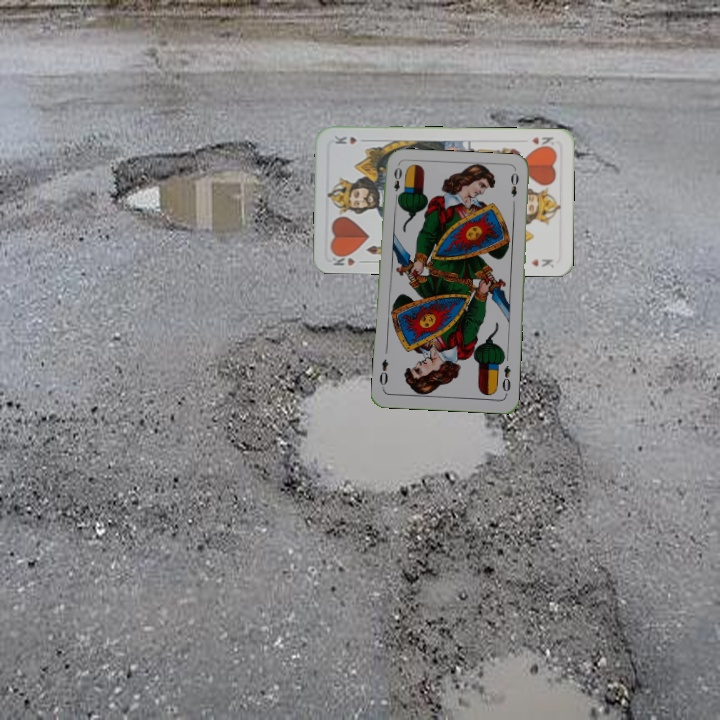EO: (390, 163, 404, 203), (498, 361, 513, 398)
HK: (328, 249, 368, 268), (528, 133, 556, 151)
